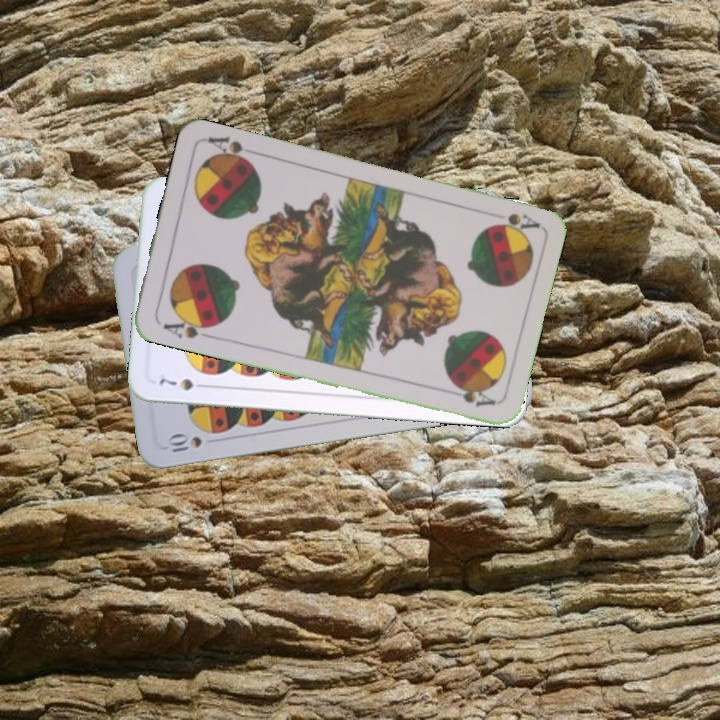S10: (163, 431, 204, 455)
S7: (152, 370, 211, 393)
SA: (158, 312, 217, 341), (488, 209, 541, 235)
